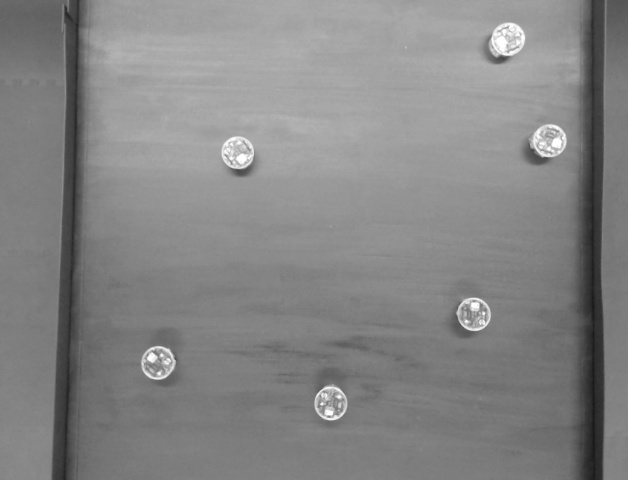epuck_2: (524, 118, 574, 172), (307, 373, 355, 426), (482, 16, 529, 66), (452, 290, 499, 339), (211, 129, 261, 171), (137, 339, 182, 383)
